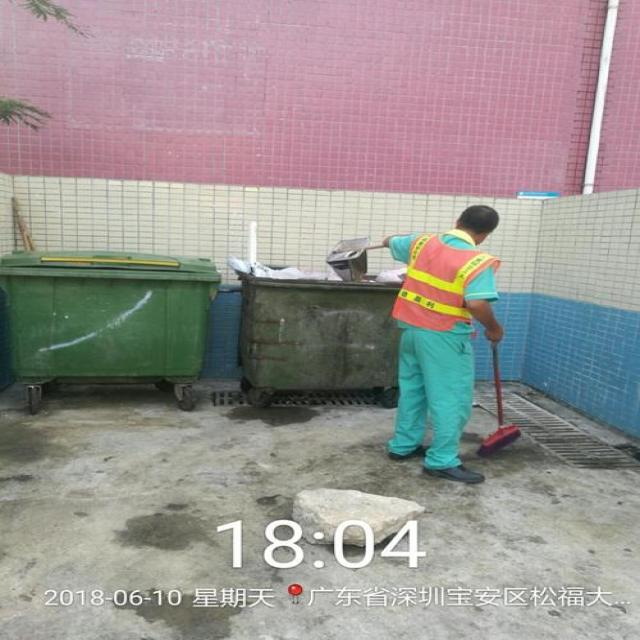garbage_bin: (0, 248, 221, 380)
overflow: (230, 222, 398, 388)
